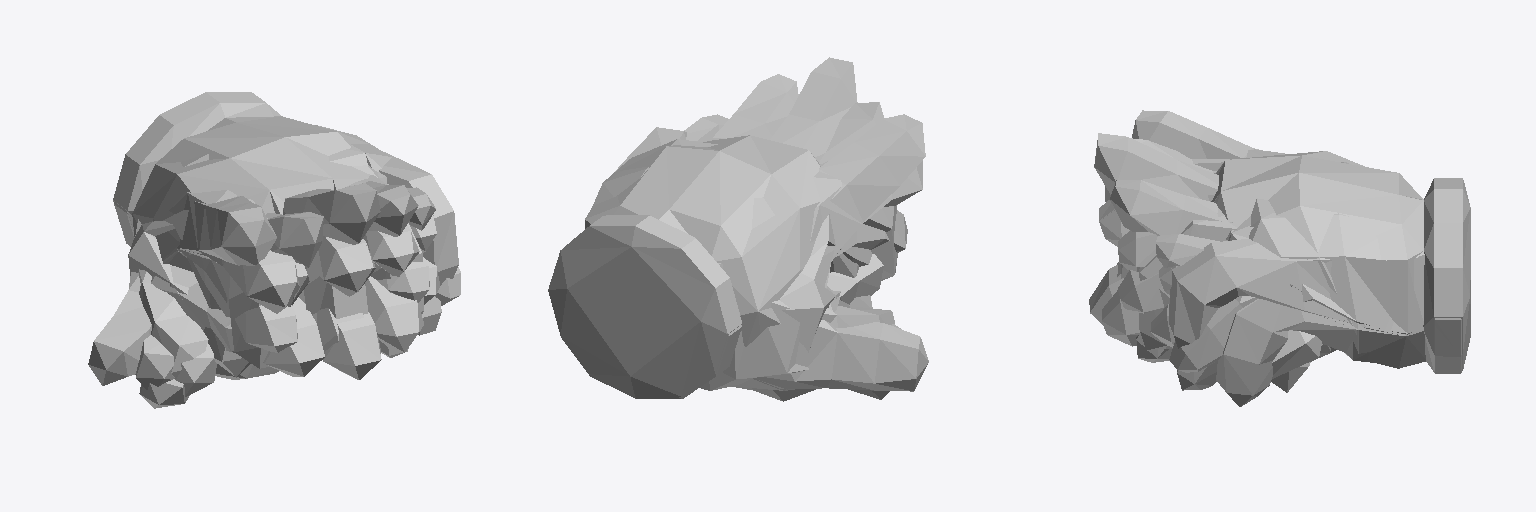
The model's file is Left Hand.obj.
The picture shows the model from 3 angles: view 1: azimuth 30°, elevation 25°; view 2: azimuth 150°, elevation 25°; view 3: azimuth 270°, elevation 25°; orthographic projection.
Parts seen in each view (by area): view 1: fist, stretch, push, grab, fly, hold, point, open; view 2: fist, stretch, fly, grab, push, point, hold, open; view 3: fist, push, grab, fly, stretch, point, open, hold.
Boxes of the visible parts, box(x1,y1,x2,y2) form: fist: box(113, 92, 386, 379); stretch: box(88, 196, 460, 385); push: box(128, 125, 439, 379); grab: box(135, 152, 458, 378); fly: box(151, 181, 435, 352); hold: box(174, 249, 441, 396); point: box(139, 190, 299, 408); open: box(118, 177, 438, 389); fist: box(548, 135, 858, 401); stretch: box(683, 114, 928, 398); fly: box(684, 57, 884, 311); grab: box(615, 124, 897, 390); push: box(592, 139, 872, 352); point: box(810, 161, 922, 399); hold: box(833, 210, 907, 258); open: box(561, 141, 900, 398); fist: box(1211, 151, 1470, 392); push: box(1089, 162, 1459, 373); grab: box(1121, 171, 1423, 350); fly: box(1094, 133, 1459, 347); stretch: box(1099, 110, 1258, 372); point: box(1105, 149, 1423, 406); open: box(1100, 210, 1461, 373); hold: box(1117, 262, 1460, 390).
Size of the model in its own units: 37.25 by 28.31 by 38.93.